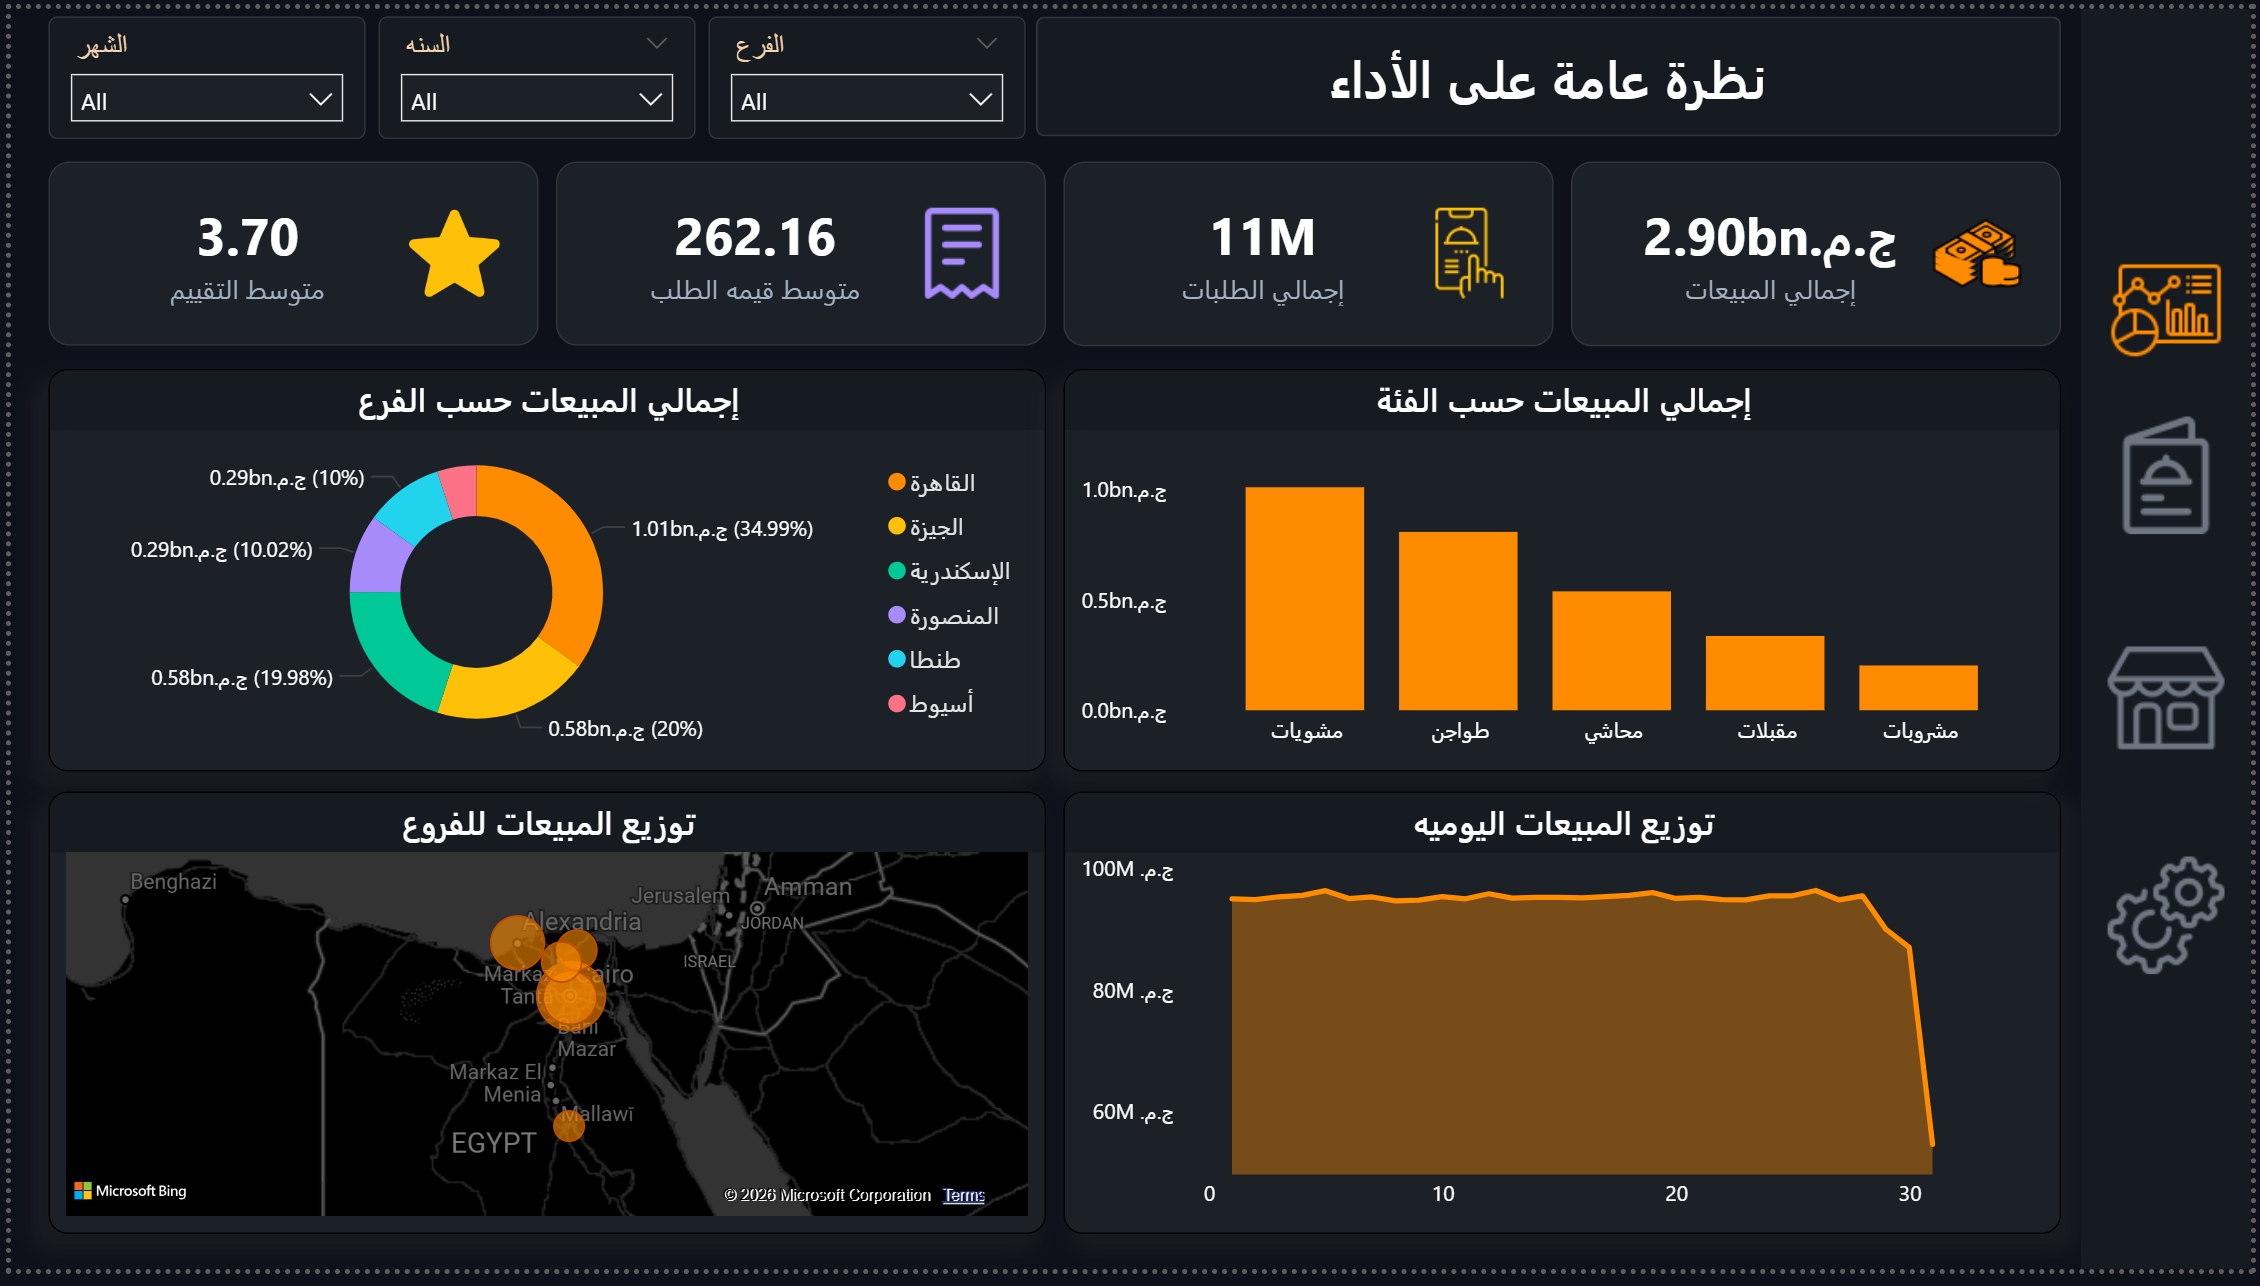

This screenshot's page, from the dashboard's own definition file:
{"tool":"powerbi","page":{"name":"Executive Summary","canvas":[1280,720],"ordinal":0},"visuals":[{"type":"slicer","fields":{"Values":["gold_dim_date.year"]},"box":[209.8,4.3,181,70],"z":0},{"type":"slicer","fields":{"Values":["gold_dim_date.month_name"]},"box":[21.4,4.3,181,70],"z":1000},{"type":"slicer","fields":{"Values":["gold_dim_branch.branch"]},"box":[397.9,4.3,181,70],"z":2000},{"type":"cardVisual","fields":{"Data":["Generated_Measures.Total Revenue"]},"box":[891.4,86.7,280,105.7],"z":3000},{"type":"cardVisual","fields":{"Data":["Generated_Measures.Total Orders"]},"box":[601.4,86.7,280,105.7],"z":4000},{"type":"cardVisual","fields":{"Data":["Generated_Measures.Avg Rating"]},"box":[21.4,86.7,280,105],"z":5000},{"type":"cardVisual","fields":{"Data":["Generated_Measures.Avg Order Value"]},"box":[311.4,86.7,280,105],"z":6000},{"type":"areaChart","title":"توزيع المبيعات اليوميه","fields":{"Y":["Generated_Measures.Total Revenue"],"Category":["gold_dim_date.day"]},"box":[601.4,447.1,570,252.9],"z":7000},{"type":"donutChart","title":"إجمالي المبيعات حسب الفرع","fields":{"Y":["Generated_Measures.Total Revenue"],"Category":["gold_dim_branch.branch"]},"box":[21.4,205.7,570,230],"z":8000},{"type":"clusteredColumnChart","title":"إجمالي المبيعات حسب الفئة","fields":{"Y":["Generated_Measures.Total Revenue"],"Category":["gold_dim_product.category"]},"box":[601.4,205.7,570,230],"z":9000},{"type":"map","title":"توزيع المبيعات للفروع","fields":{"Category":["gold_dim_branch.branch"],"Size":["Generated_Measures.Total Revenue"]},"box":[21.4,447.1,570,252.9],"z":10000},{"type":"shape","box":[1182.9,0,97.1,720],"z":11000,"group":"g1"},{"type":"shape","box":[585.7,4.3,585.7,68.6],"z":12000},{"type":"image","box":[1182.9,138.6,97.1,67.1],"z":13000,"group":"g1"},{"type":"image","box":[1182.9,484.3,97.1,67.1],"z":14000,"group":"g1"},{"type":"image","box":[1182.9,232.9,97.1,67.1],"z":15000,"group":"g1"},{"type":"image","box":[1182.9,360,97.1,67.1],"z":16000,"group":"g1"},{"type":"group","id":"g1","title":"Group 1","box":[1182.9,0,97.1,720],"z":16001}]}

Visuals, with their boxes in screenshot pixels (x1, y1, x2, y2), scaled from the page's 1280x720 canvas onto the 2260x1286 screenshot:
slicer - gold_dim_date.year: {"left": 370, "top": 8, "right": 690, "bottom": 133}
slicer - gold_dim_date.month_name: {"left": 38, "top": 8, "right": 357, "bottom": 133}
slicer - gold_dim_branch.branch: {"left": 703, "top": 8, "right": 1022, "bottom": 133}
cardVisual - Generated_Measures.Total Revenue: {"left": 1574, "top": 155, "right": 2068, "bottom": 344}
cardVisual - Generated_Measures.Total Orders: {"left": 1062, "top": 155, "right": 1556, "bottom": 344}
cardVisual - Generated_Measures.Avg Rating: {"left": 38, "top": 155, "right": 532, "bottom": 342}
cardVisual - Generated_Measures.Avg Order Value: {"left": 550, "top": 155, "right": 1044, "bottom": 342}
"توزيع المبيعات اليوميه" areaChart: {"left": 1062, "top": 799, "right": 2068, "bottom": 1250}
"إجمالي المبيعات حسب الفرع" donutChart: {"left": 38, "top": 367, "right": 1044, "bottom": 778}
"إجمالي المبيعات حسب الفئة" clusteredColumnChart: {"left": 1062, "top": 367, "right": 2068, "bottom": 778}
"توزيع المبيعات للفروع" map: {"left": 38, "top": 799, "right": 1044, "bottom": 1250}
shape: {"left": 2089, "top": 0, "right": 2259, "bottom": 1285}
shape: {"left": 1034, "top": 8, "right": 2068, "bottom": 130}
image: {"left": 2089, "top": 248, "right": 2259, "bottom": 367}
image: {"left": 2089, "top": 865, "right": 2259, "bottom": 985}
image: {"left": 2089, "top": 416, "right": 2259, "bottom": 536}
image: {"left": 2089, "top": 643, "right": 2259, "bottom": 763}
"Group 1" group: {"left": 2089, "top": 0, "right": 2259, "bottom": 1285}
